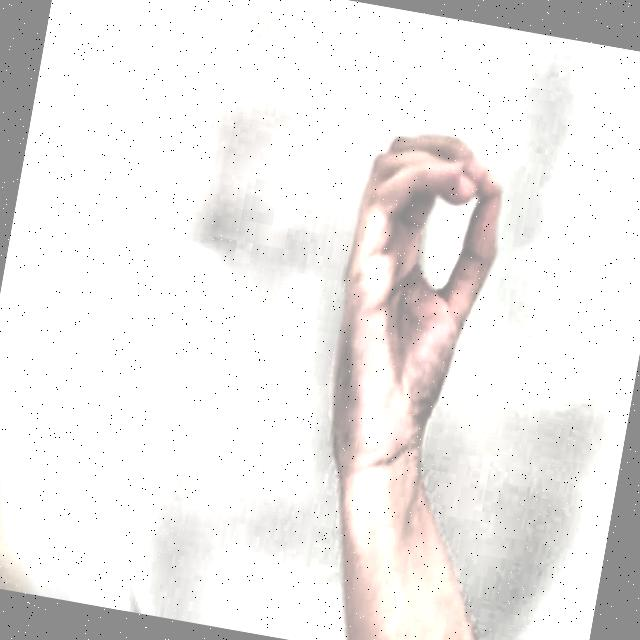O: (274, 88, 536, 520)
